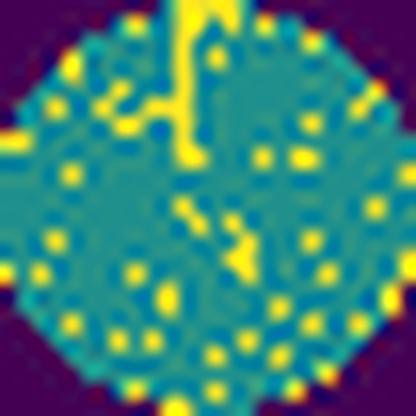Scratch: (93, 0, 245, 171)
